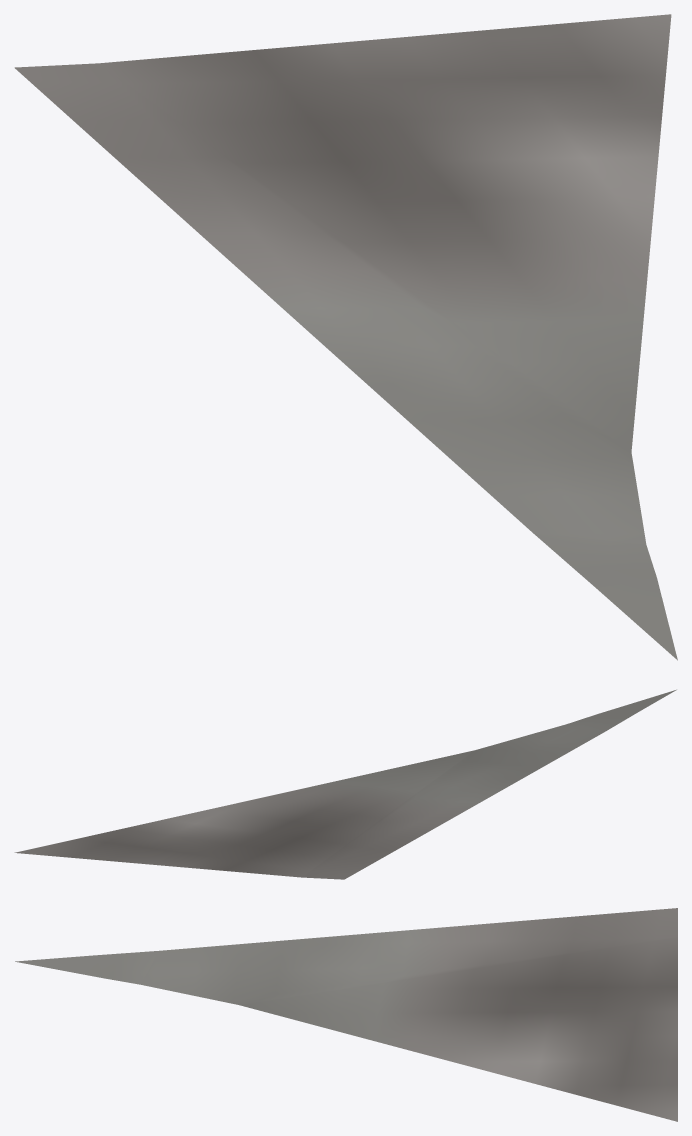
3 views of the same model, one above another, from view 1: azimuth 30°, elevation 25°; view 2: azimuth 150°, elevation 25°; view 3: azimuth 270°, elevation 25° (orthographic). The views are drawn at different scales.
Bounding box in the file's own units: 0.0286 × 0.00446 × 0.0501.
Materials: 1 (1 with a texture image).
